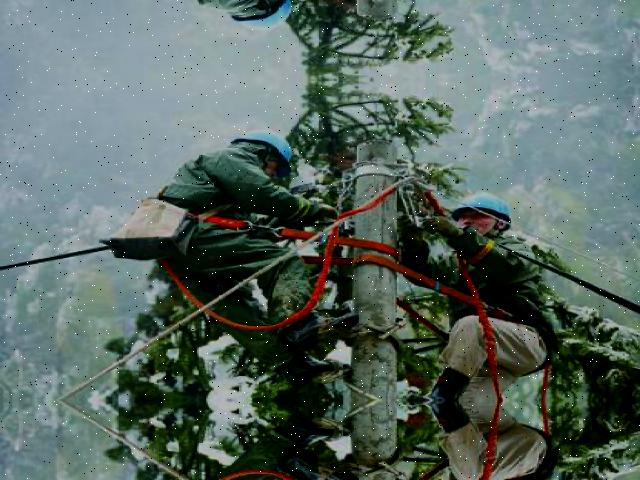Helmet: (446, 185, 518, 245), (230, 124, 300, 176)
